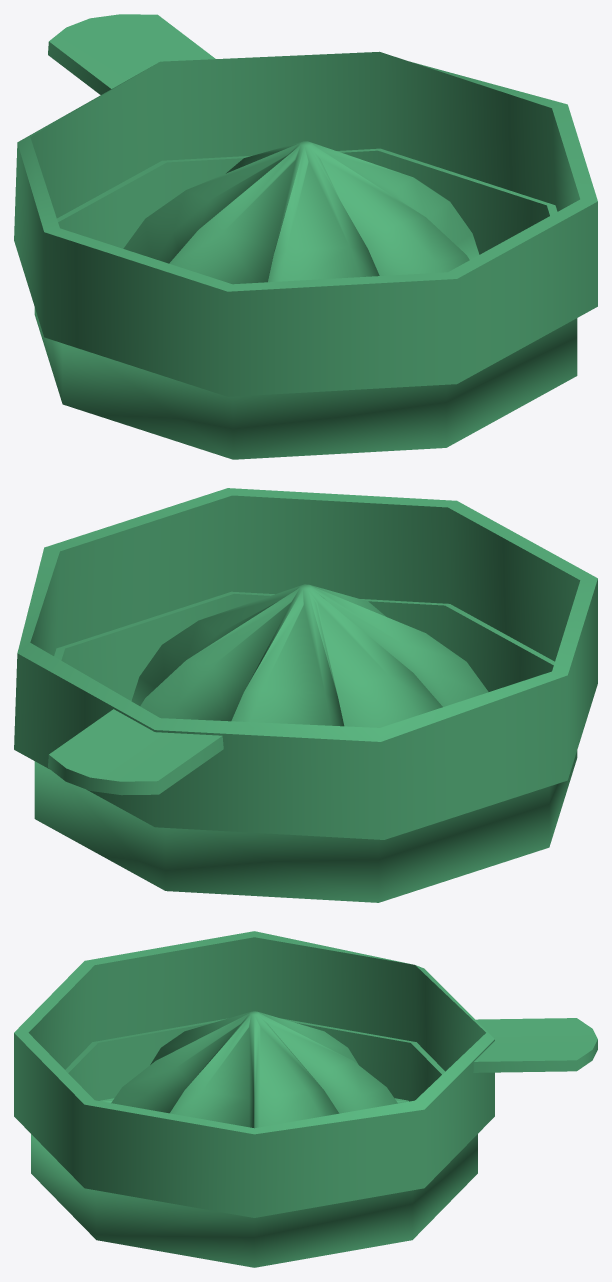
Rendered from Juicer.glb.
3 renders of one model, top to bottom at view 1: azimuth 30°, elevation 25°; view 2: azimuth 150°, elevation 25°; view 3: azimuth 270°, elevation 25°, orthographic. The views are drawn at different scales.
Visible parts, largest first — view 1: juicer_manual_Cylinder.011; view 2: juicer_manual_Cylinder.011; view 3: juicer_manual_Cylinder.011.
Part boxes in pixels (box(x1,y1,x2,y2)): juicer_manual_Cylinder.011: box(14, 14, 597, 459); juicer_manual_Cylinder.011: box(14, 488, 597, 902); juicer_manual_Cylinder.011: box(14, 931, 597, 1267).
Bounding box in the file's own units: 1.88 × 0.7104 × 2.29.
Materials: 1 (1 with a texture image).
